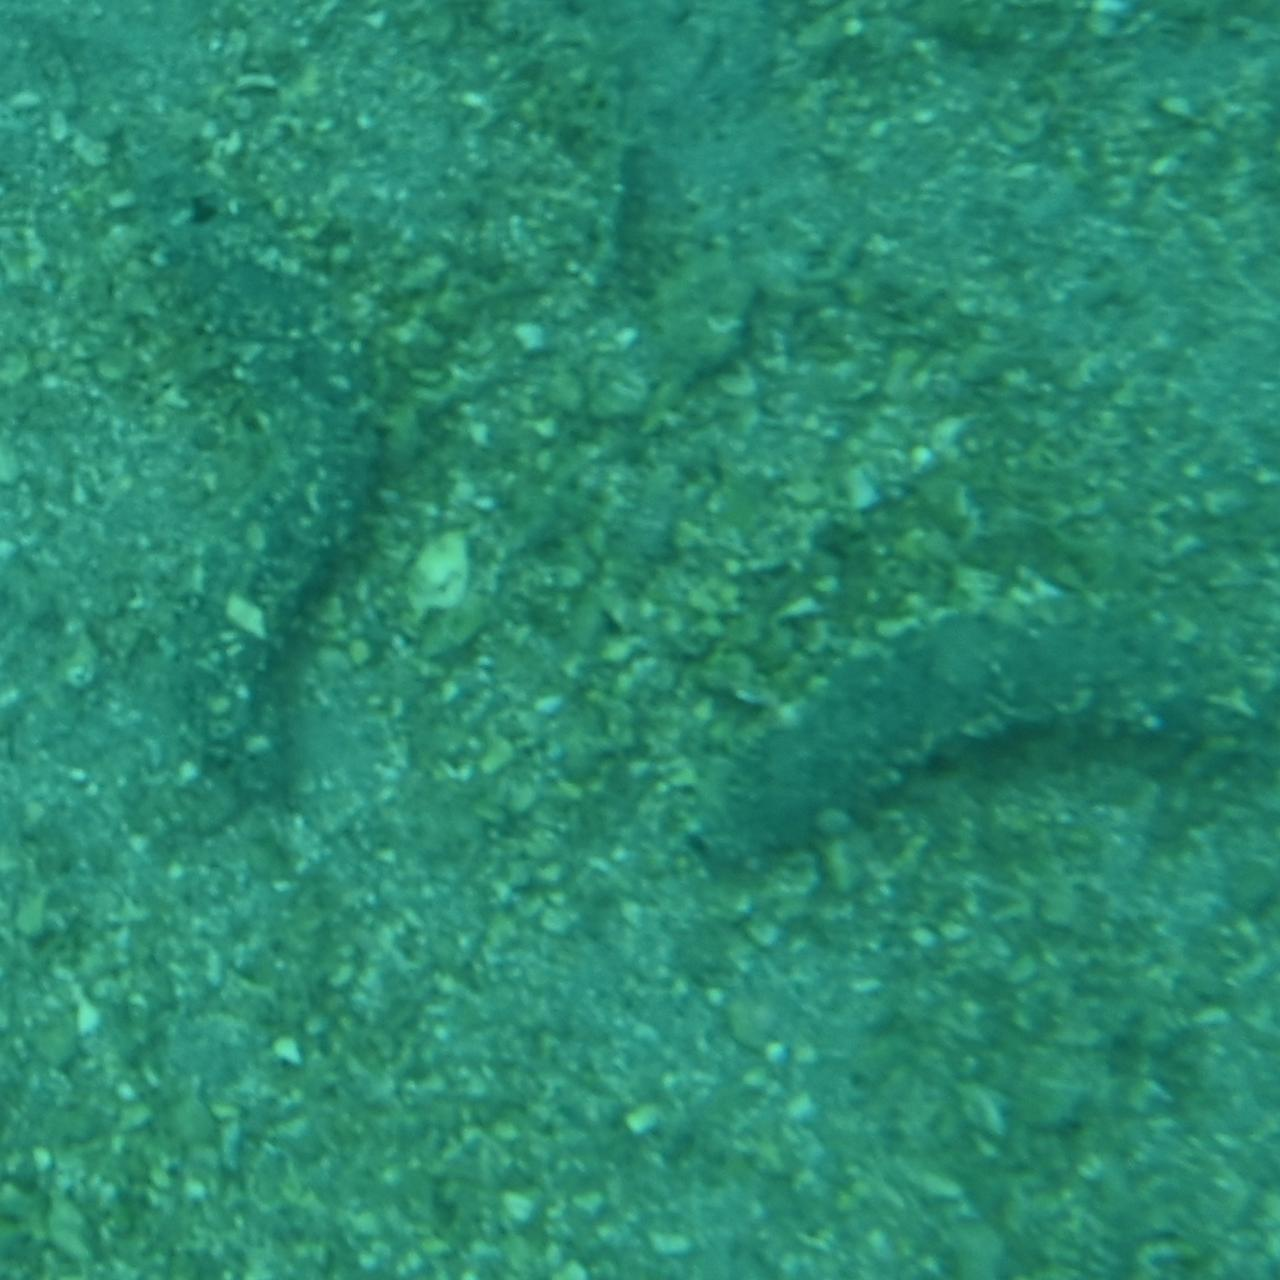Holothuria tubulosa: (667, 597, 1280, 896), (188, 234, 418, 835)
